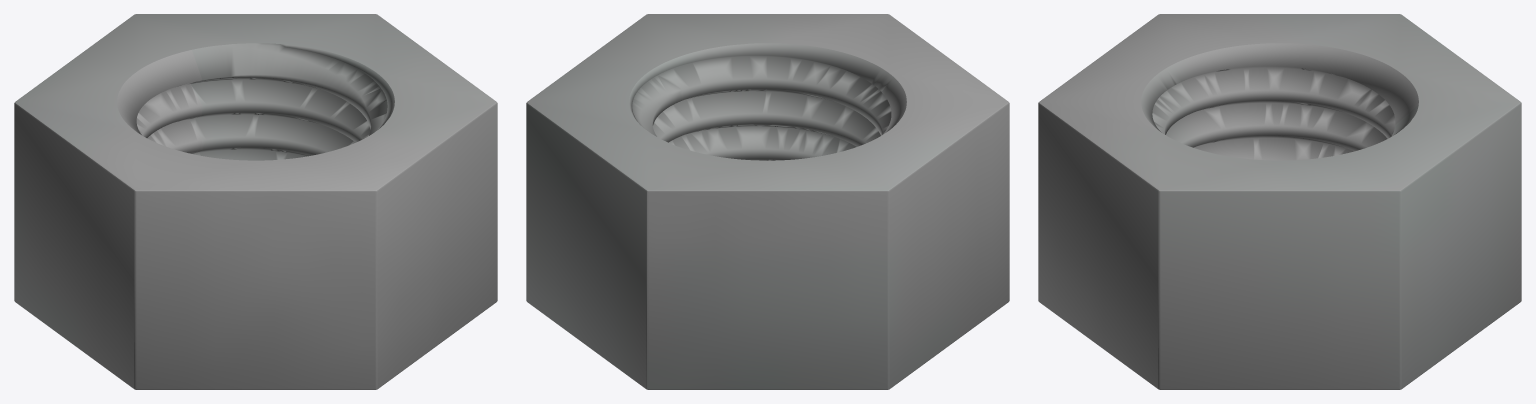
File: factory_nut_m12_loose.glb
3 views of the same model, side by side, from view 1: azimuth 30°, elevation 25°; view 2: azimuth 150°, elevation 25°; view 3: azimuth 270°, elevation 25° (orthographic).
Visible parts, largest first — view 1: part0; view 2: part0; view 3: part0.
Part boxes in pixels (bbox=[...]): part0: bbox=[14, 14, 497, 389]; part0: bbox=[526, 14, 1009, 389]; part0: bbox=[1038, 14, 1521, 389].
Size of the model in its own units: 0.019 by 0.01 by 0.0219.
Materials: 1 (1 with a texture image).
